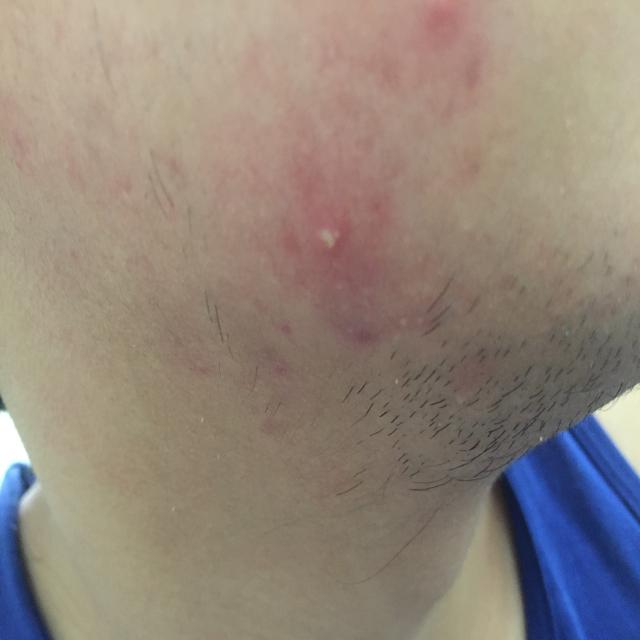blackheads: (306, 215, 350, 264)
